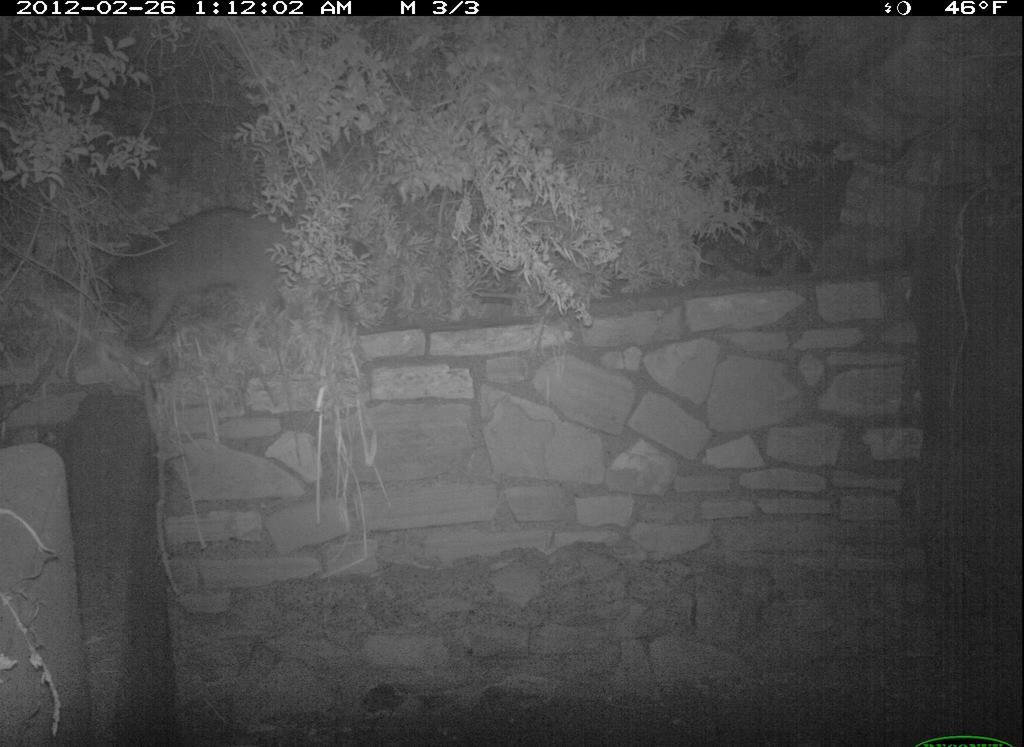raccoon: (102, 201, 382, 353)
